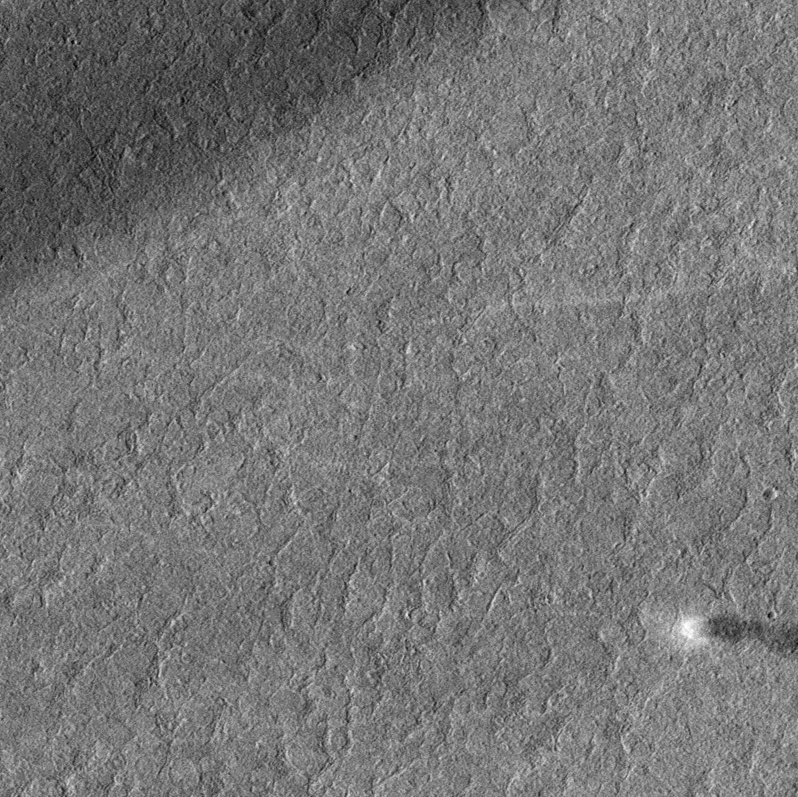dust_devil: (677, 610, 798, 662)
